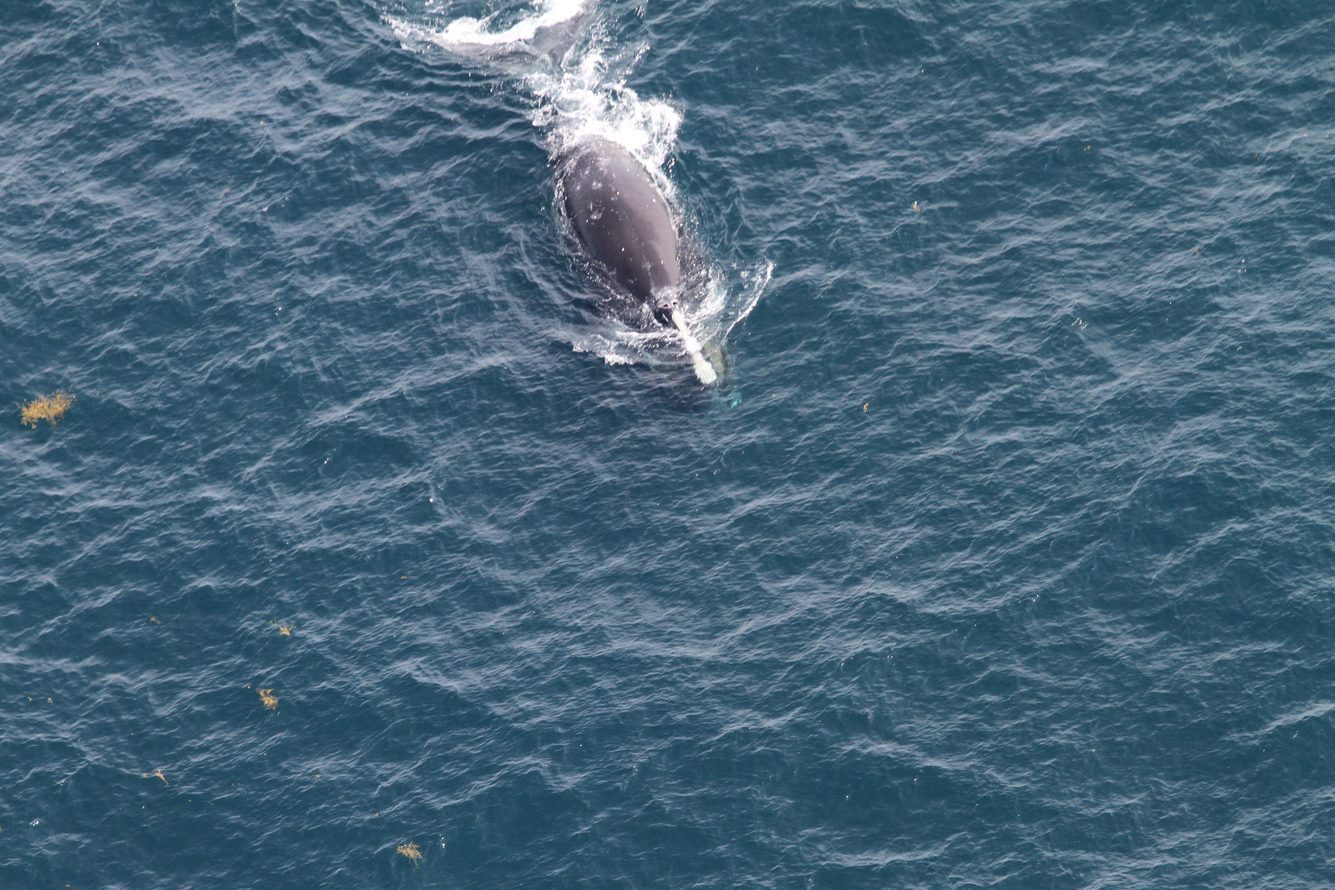whale: (428, 0, 756, 419)
